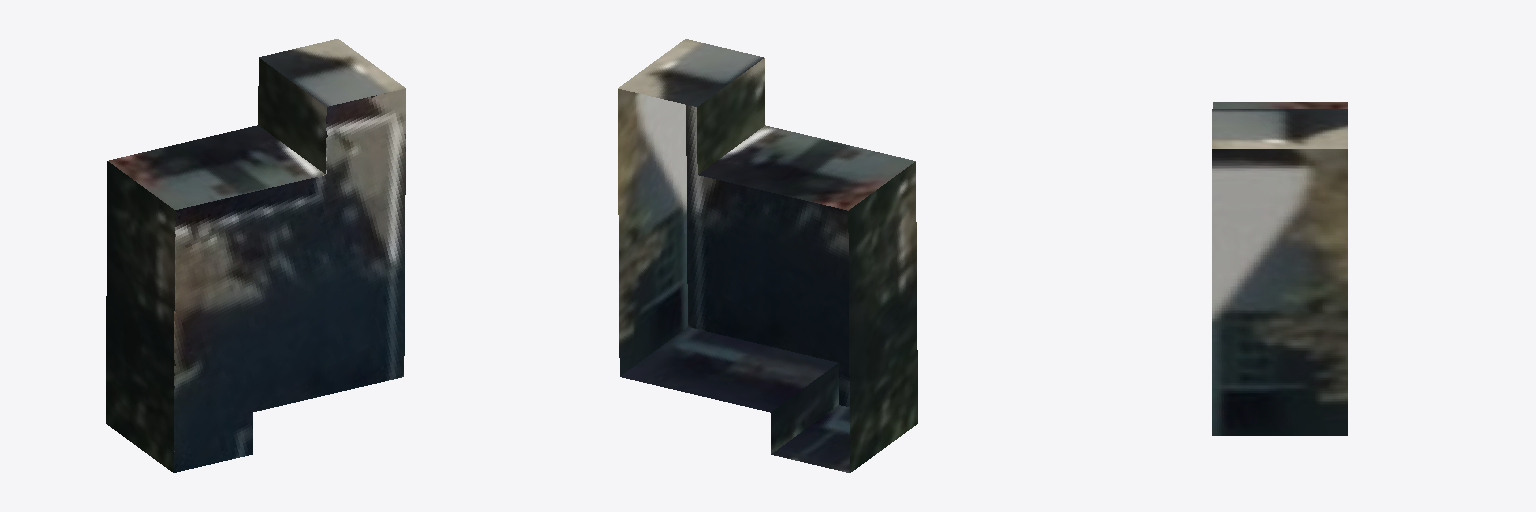
3 views of the same model, side by side, from view 1: azimuth 30°, elevation 25°; view 2: azimuth 150°, elevation 25°; view 3: azimuth 270°, elevation 25° (orthographic).
Visible parts, largest first — view 1: talo_Build[number redacted]; view 2: talo_Build[number redacted]; view 3: talo_Build[number redacted].
Part boxes in pixels (x1,y1,x2,y2): talo_Build[number redacted]: (106,39,405,472); talo_Build[number redacted]: (618,39,917,472); talo_Build[number redacted]: (1212,102,1347,435).
Size of the model in its own units: 0.7625 by 1.03 by 0.3873.
9 materials, 9 textured.